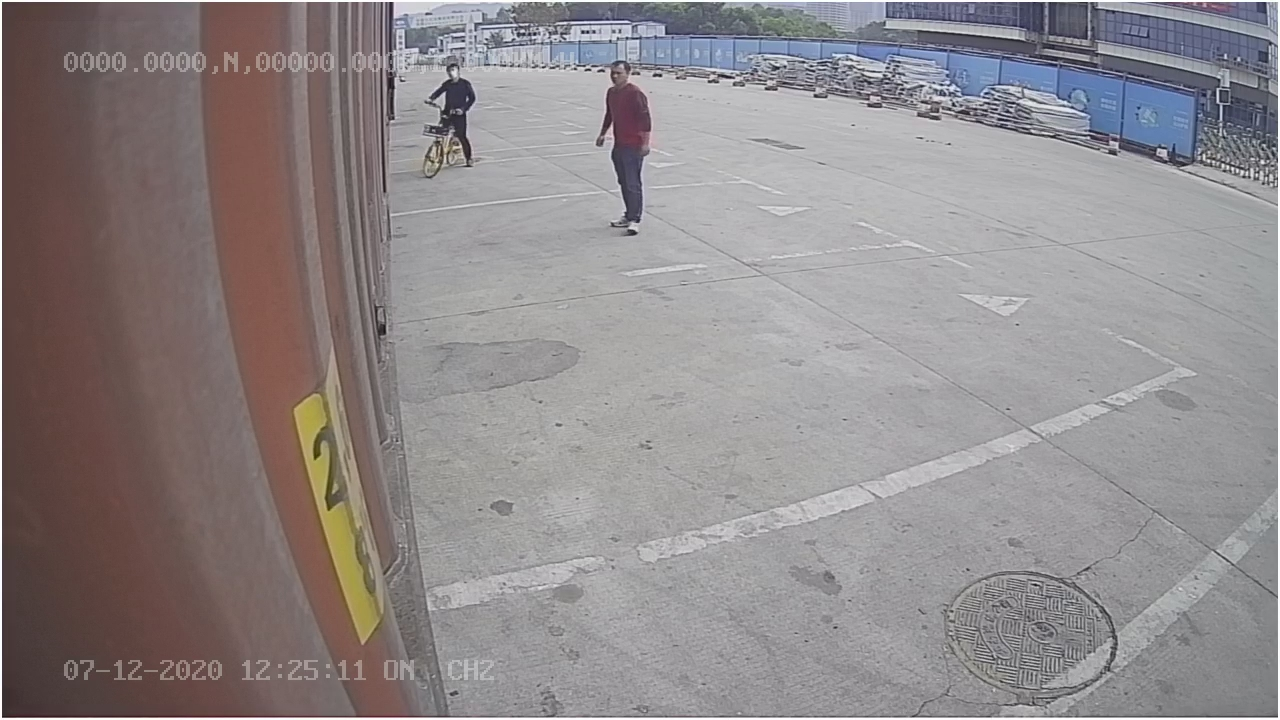person: (588, 56, 657, 238)
